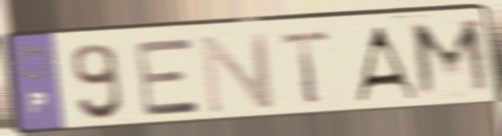9: (69, 41, 126, 123)
A: (349, 22, 422, 104)
E: (131, 35, 205, 119)
M: (407, 16, 498, 103)
N: (196, 29, 279, 117)
T: (276, 27, 335, 108)
